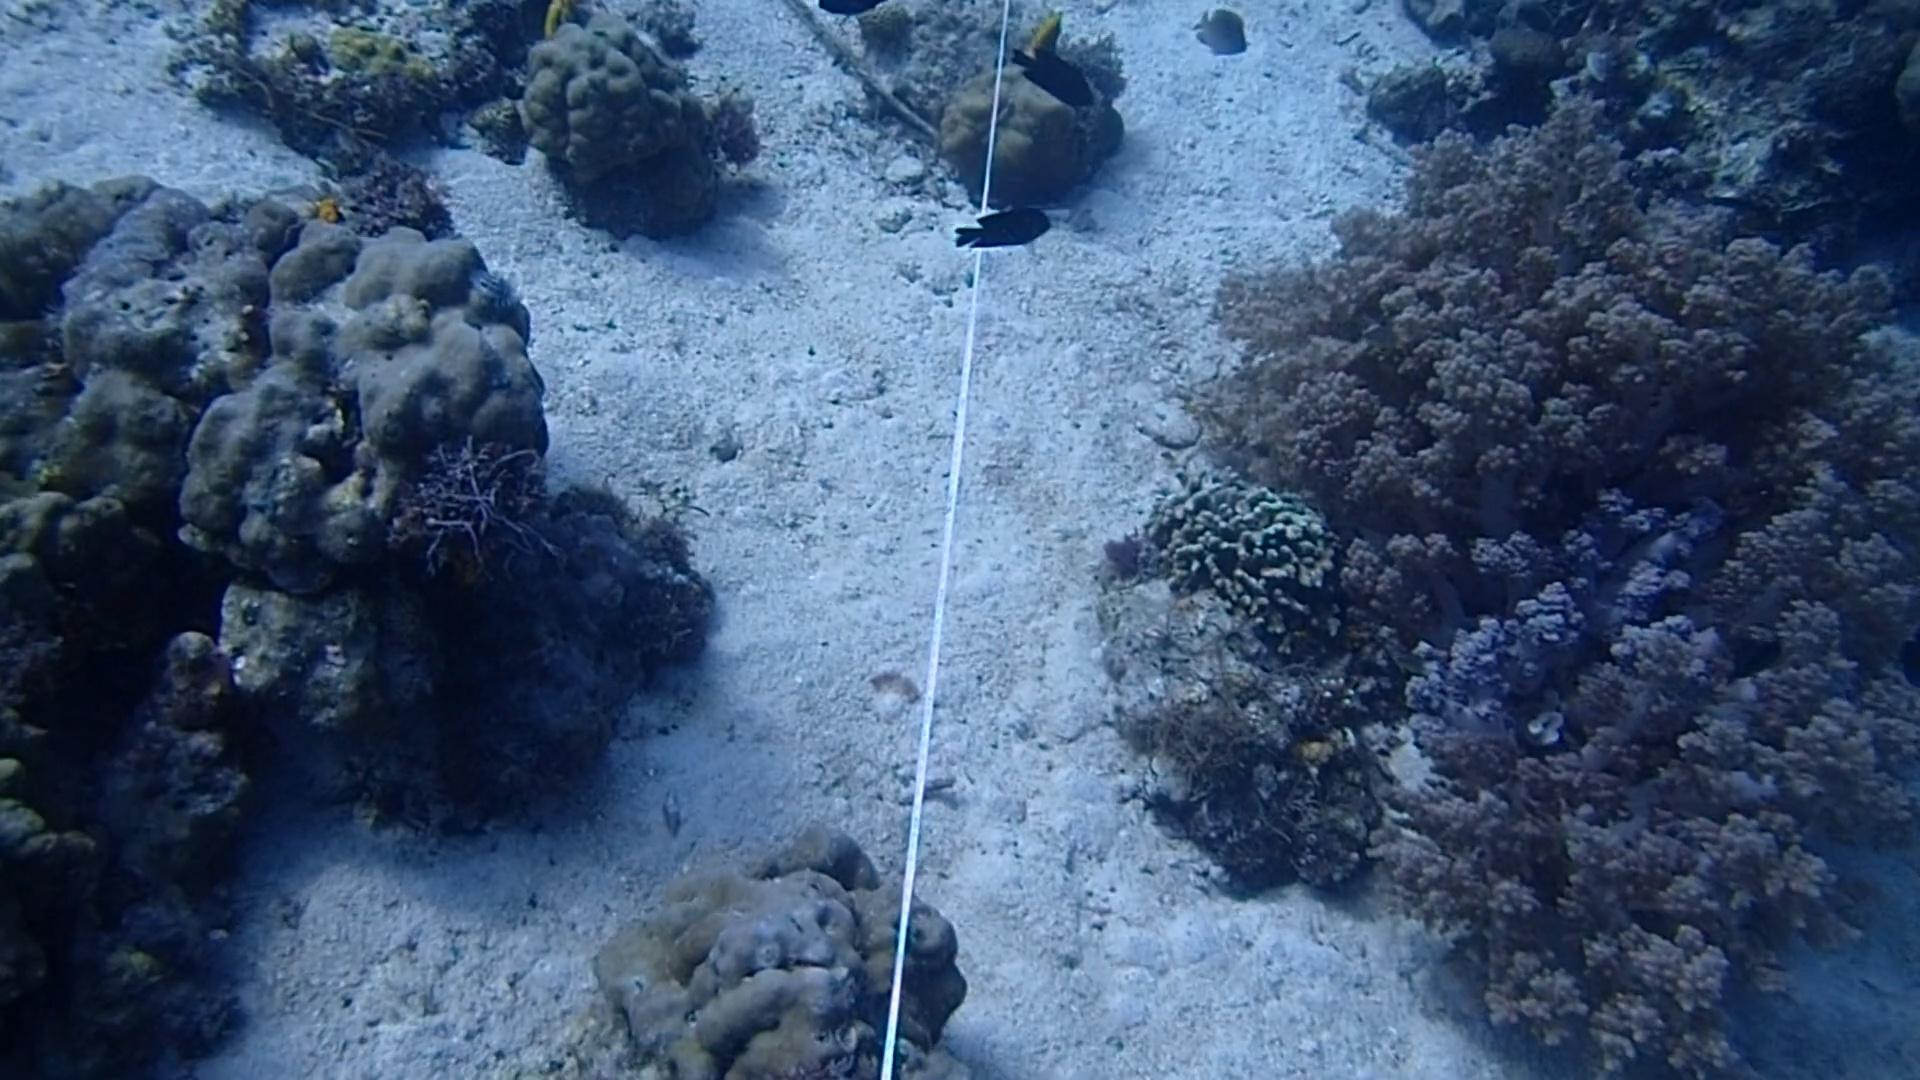Dark Fish: (1005, 45, 1105, 115), (949, 199, 1063, 252), (1709, 617, 1783, 692)
Light Fish: (1188, 5, 1267, 66)
